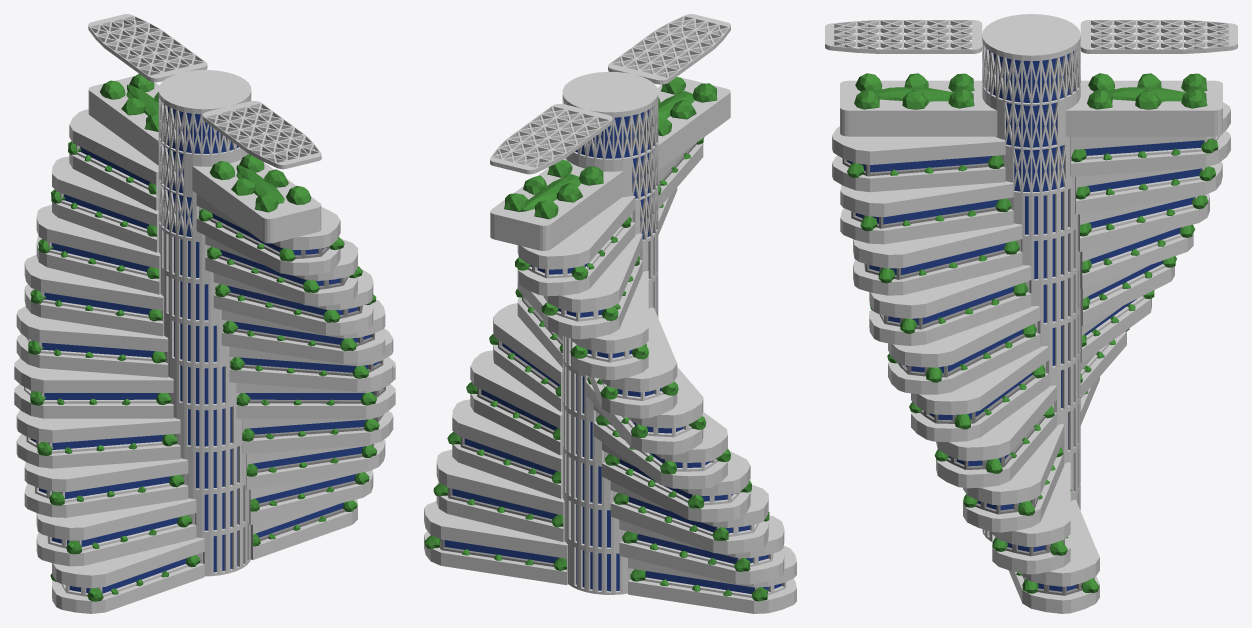
File: Edificio2.glb
3 views of the same model, side by side, from view 1: azimuth 30°, elevation 25°; view 2: azimuth 150°, elevation 25°; view 3: azimuth 270°, elevation 25° (orthographic). The views are drawn at different scales.
Visible parts, largest first — view 1: Pisos2, Pisos1, Centro, Ventanas, TerrazaTecho, Terraza, Arbustos; view 2: Pisos2, Pisos1, Centro, Ventanas, TerrazaTecho, Terraza, Arbustos; view 3: Pisos1, Centro, Pisos2, Ventanas, Terraza, TerrazaTecho, Arbustos.
Part boxes in pixels (left/top/right/bottom): Pisos2: left=14, top=109, right=204, bottom=613; Pisos1: left=196, top=194, right=395, bottom=559; Centro: left=158, top=70, right=251, bottom=576; Ventanas: left=30, top=104, right=379, bottom=593; TerrazaTecho: left=88, top=14, right=321, bottom=169; Terraza: left=88, top=76, right=321, bottom=243; Arbustos: left=100, top=74, right=311, bottom=212; Pisos2: left=515, top=195, right=796, bottom=613; Pisos1: left=424, top=137, right=704, bottom=585; Centro: left=562, top=72, right=658, bottom=594; Ventanas: left=444, top=107, right=781, bottom=593; TerrazaTecho: left=490, top=14, right=730, bottom=174; Terraza: left=490, top=77, right=730, bottom=250; Arbustos: left=504, top=76, right=717, bottom=219; Pisos1: left=832, top=126, right=1099, bottom=613; Centro: left=982, top=14, right=1080, bottom=541; Pisos2: left=1070, top=102, right=1230, bottom=425; Ventanas: left=847, top=51, right=1204, bottom=591; Terraza: left=840, top=80, right=1222, bottom=136; TerrazaTecho: left=825, top=20, right=1237, bottom=53; Arbustos: left=854, top=73, right=1207, bottom=109.
Bounding box in the file's own units: 10.27 × 13.89 × 10.5.
